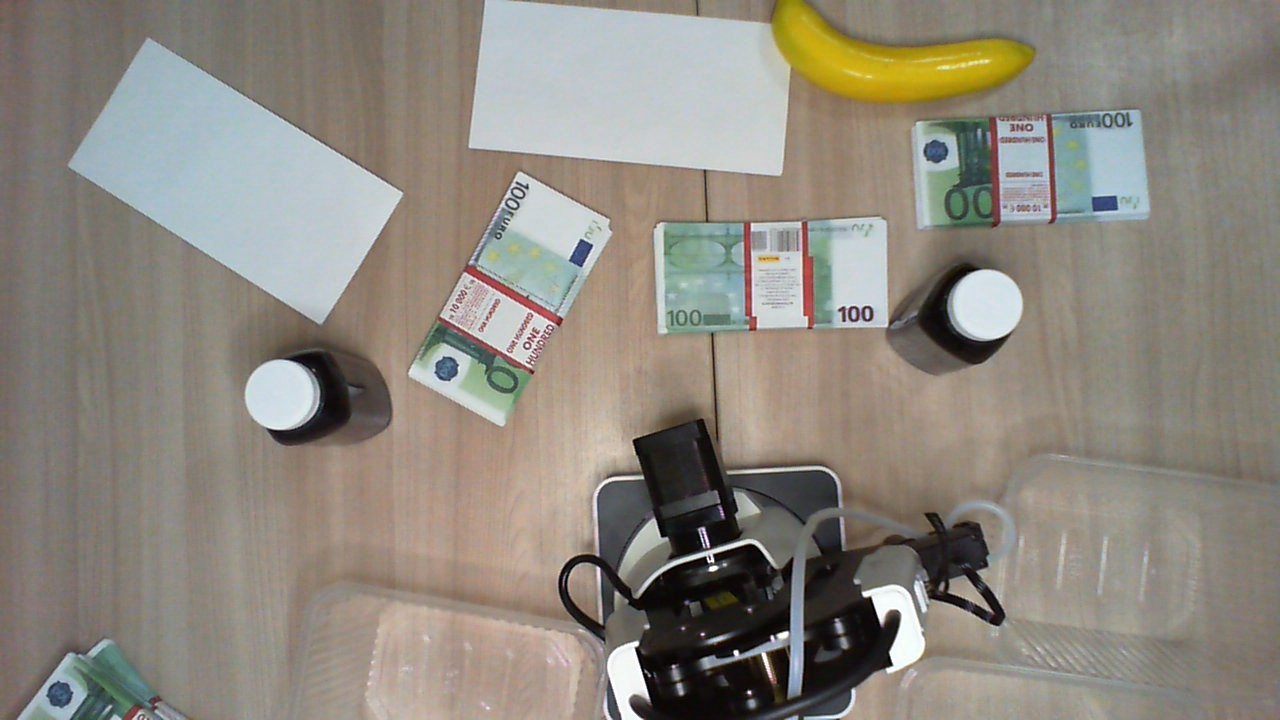banana: (773, 1, 1039, 101)
bottle: (242, 342, 354, 444), (923, 264, 1026, 358)
convert: (64, 39, 408, 325), (468, 1, 795, 177)
money: (405, 170, 615, 428), (911, 105, 1149, 229), (657, 215, 888, 335), (18, 629, 215, 720)
